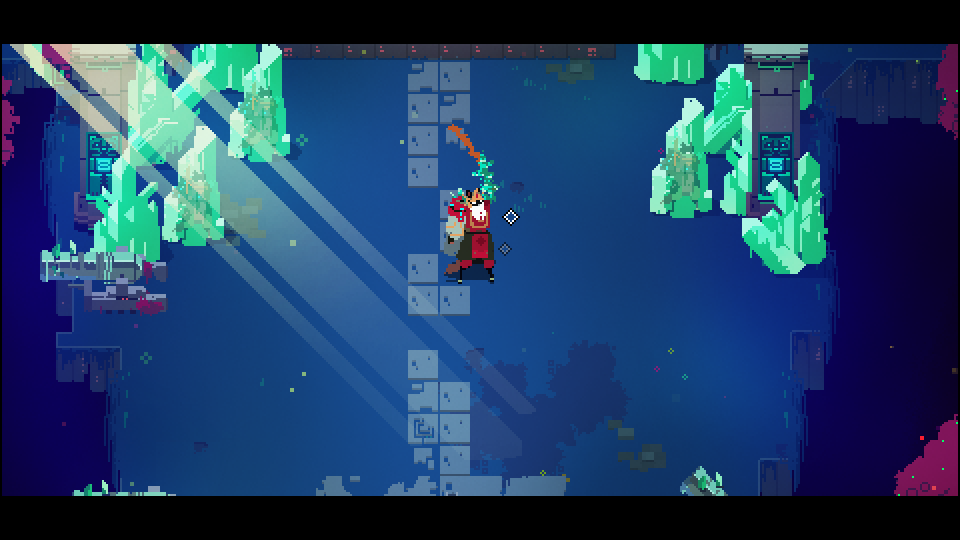hanged_man: (439, 145, 504, 294)
